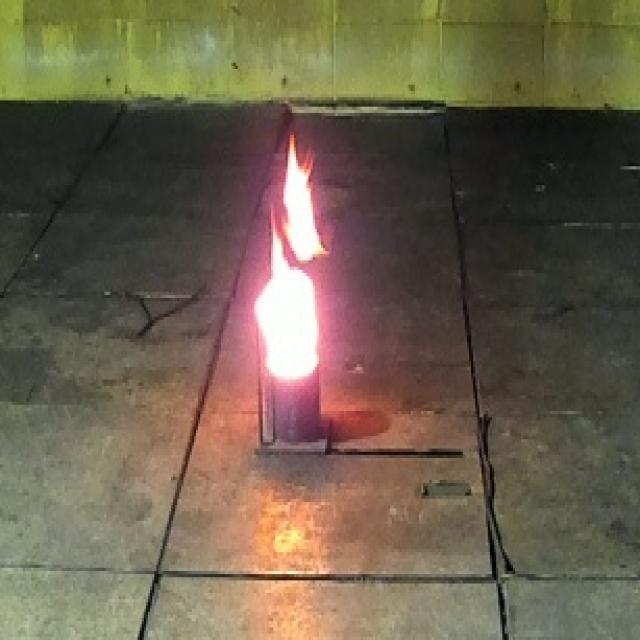Fire: (253, 133, 330, 381)
